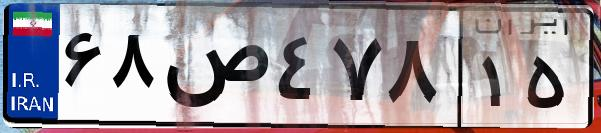1: (475, 38, 525, 113)
4: (270, 28, 330, 110)
5: (525, 38, 570, 115)
6: (57, 26, 110, 100)
7: (330, 28, 385, 110)
8: (385, 28, 445, 110), (110, 28, 158, 98)
ص: (158, 20, 270, 120)
